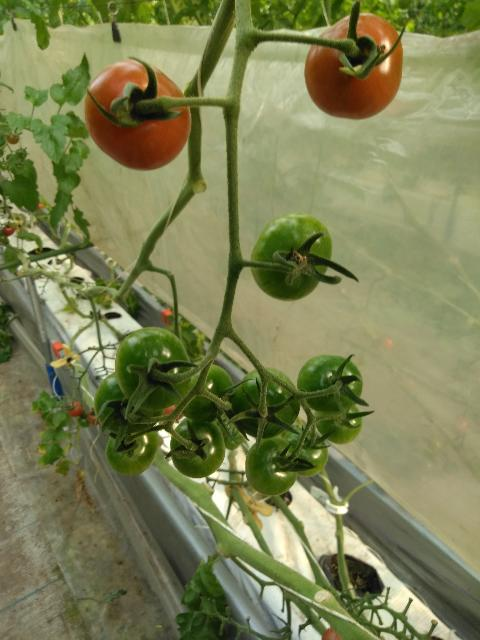l_green: (249, 211, 332, 302), (115, 326, 191, 409), (230, 367, 302, 440), (94, 371, 166, 436), (297, 355, 362, 414), (175, 361, 233, 422), (170, 416, 226, 478), (245, 438, 299, 495), (106, 427, 160, 476), (281, 427, 328, 478), (313, 404, 363, 444)
l_half_ripened: (83, 61, 193, 172), (304, 12, 404, 119)
